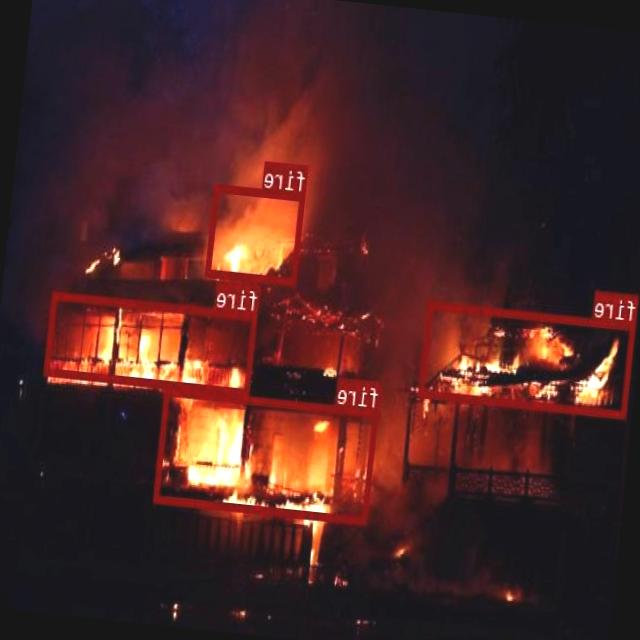fire: (154, 387, 380, 522), (418, 300, 636, 418), (44, 290, 259, 396), (206, 183, 306, 285)
